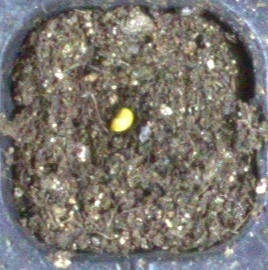pepper seed: (42, 41, 177, 173)
